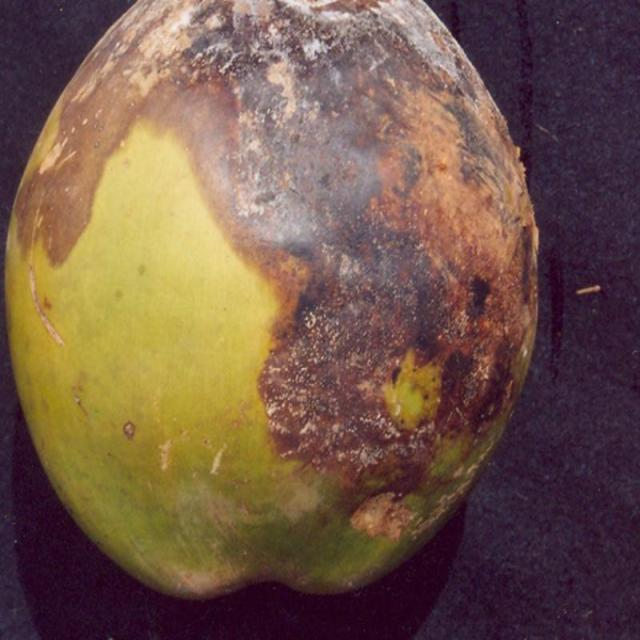damaged: (3, 0, 539, 603)
